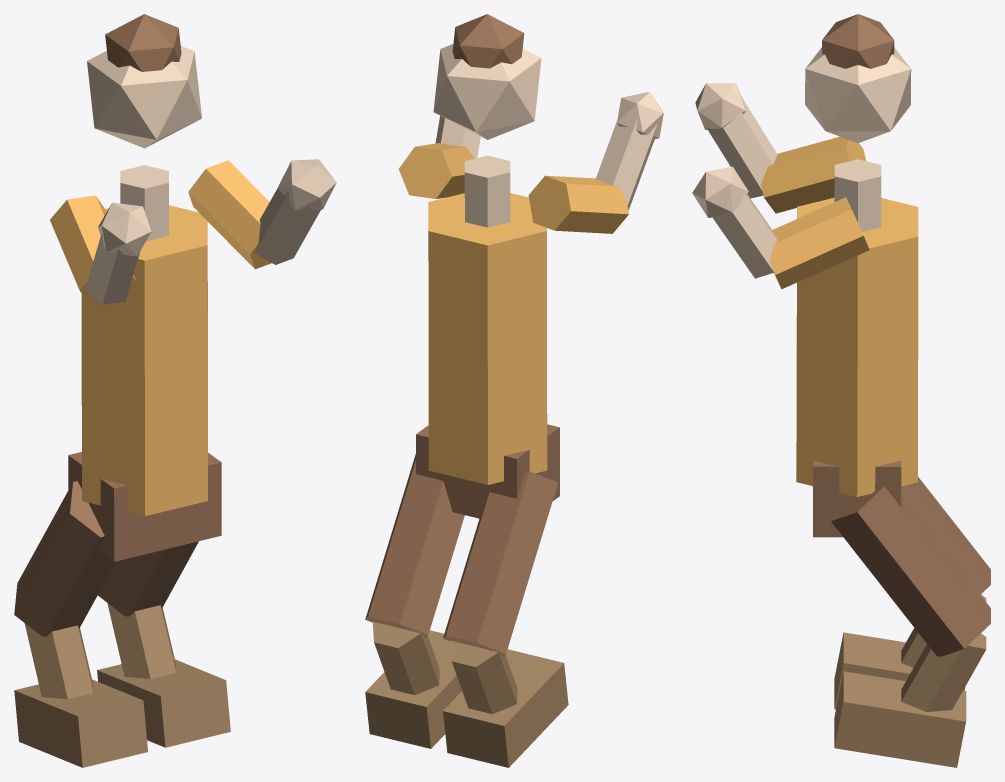
File: pose_dodge_roll_06.glb
3 views of the same model, side by side, from view 1: azimuth 30°, elevation 25°; view 2: azimuth 150°, elevation 25°; view 3: azimuth 270°, elevation 25° (orthographic). The views are drawn at different scales.
Visible parts, largest first — view 1: pose; view 2: pose; view 3: pose.
Part boxes in pixels (x1=…): pose: x1=14, y1=14, x2=336, y2=767; pose: x1=365, y1=14, x2=663, y2=767; pose: x1=692, y1=14, x2=990, y2=767.
Size of the model in its own units: 0.488 by 1.53 by 0.5754.
